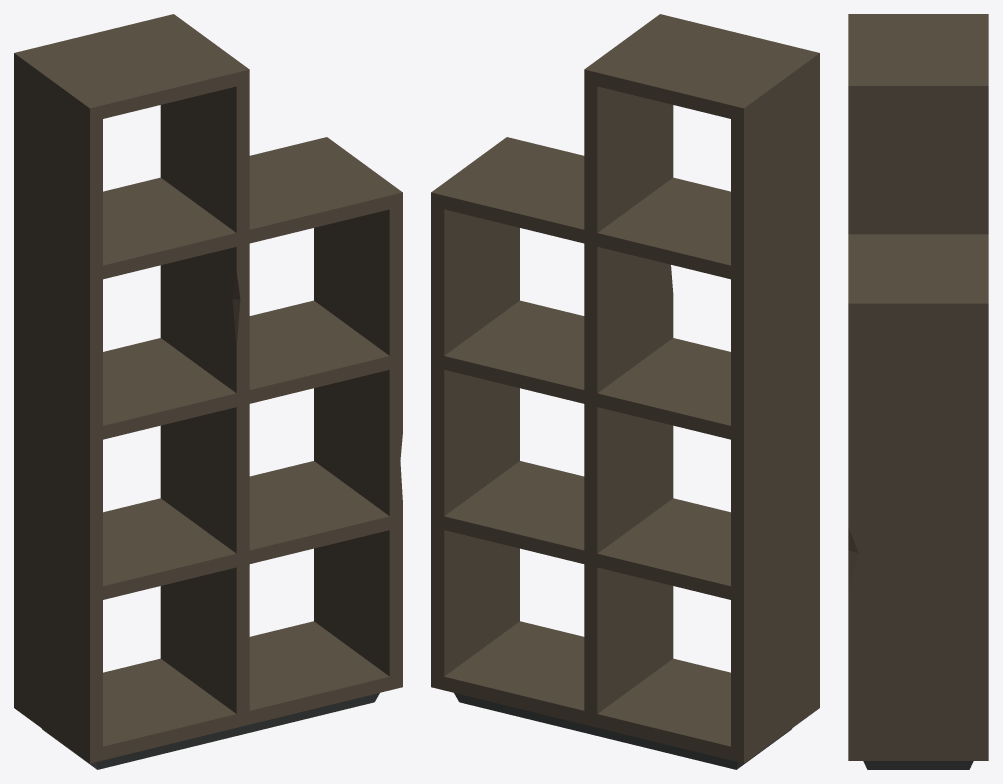
Rendered from SM_Props_Interior_House_Room_Shelf_Decorative_01.fbx.
The picture shows the model from 3 angles, left to right: view 1: azimuth 30°, elevation 25°; view 2: azimuth 150°, elevation 25°; view 3: azimuth 270°, elevation 25°; orthographic projection. The views are drawn at different scales.
Visible parts, largest first — view 1: SM_Props_Interior_House_Room_Shelf_Decorative_01; view 2: SM_Props_Interior_House_Room_Shelf_Decorative_01; view 3: SM_Props_Interior_House_Room_Shelf_Decorative_01.
Part boxes in pixels (box(x1,y1,x2,y2)): SM_Props_Interior_House_Room_Shelf_Decorative_01: box(14, 14, 402, 769); SM_Props_Interior_House_Room_Shelf_Decorative_01: box(431, 14, 819, 769); SM_Props_Interior_House_Room_Shelf_Decorative_01: box(848, 14, 988, 769).
Size of the model in its own units: 71.5 by 147 by 30.
